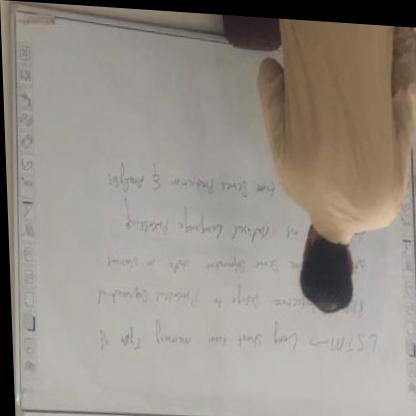Handwritten text: (89, 312, 385, 373), (96, 156, 289, 203), (104, 198, 271, 246), (94, 238, 278, 281), (81, 272, 262, 314)
Lecturer: (251, 16, 411, 320)
Whiteboard: (10, 13, 416, 416)
